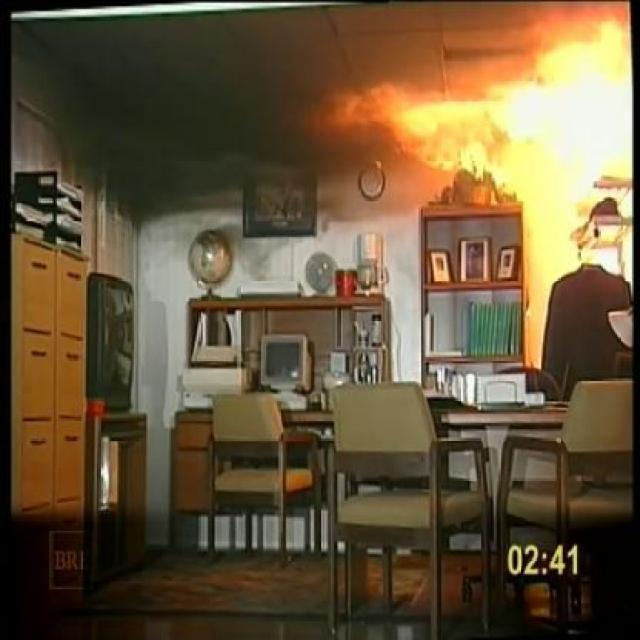fire: (380, 40, 640, 176)
